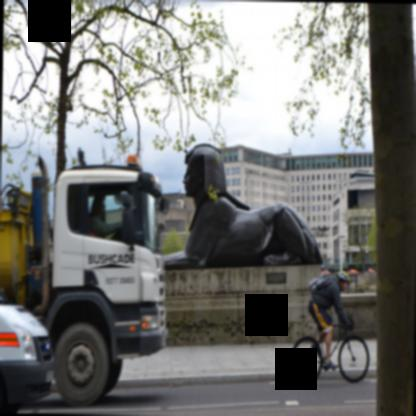backpack: (308, 273, 334, 294)
